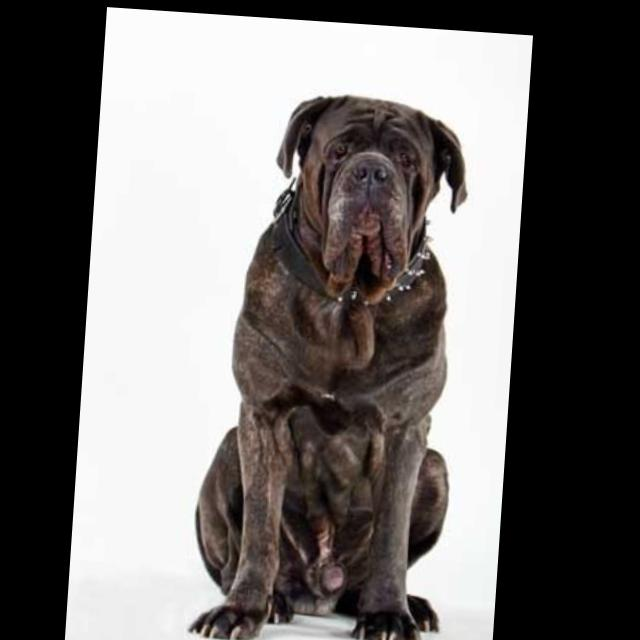mastino_napoletano: (195, 83, 478, 640)
